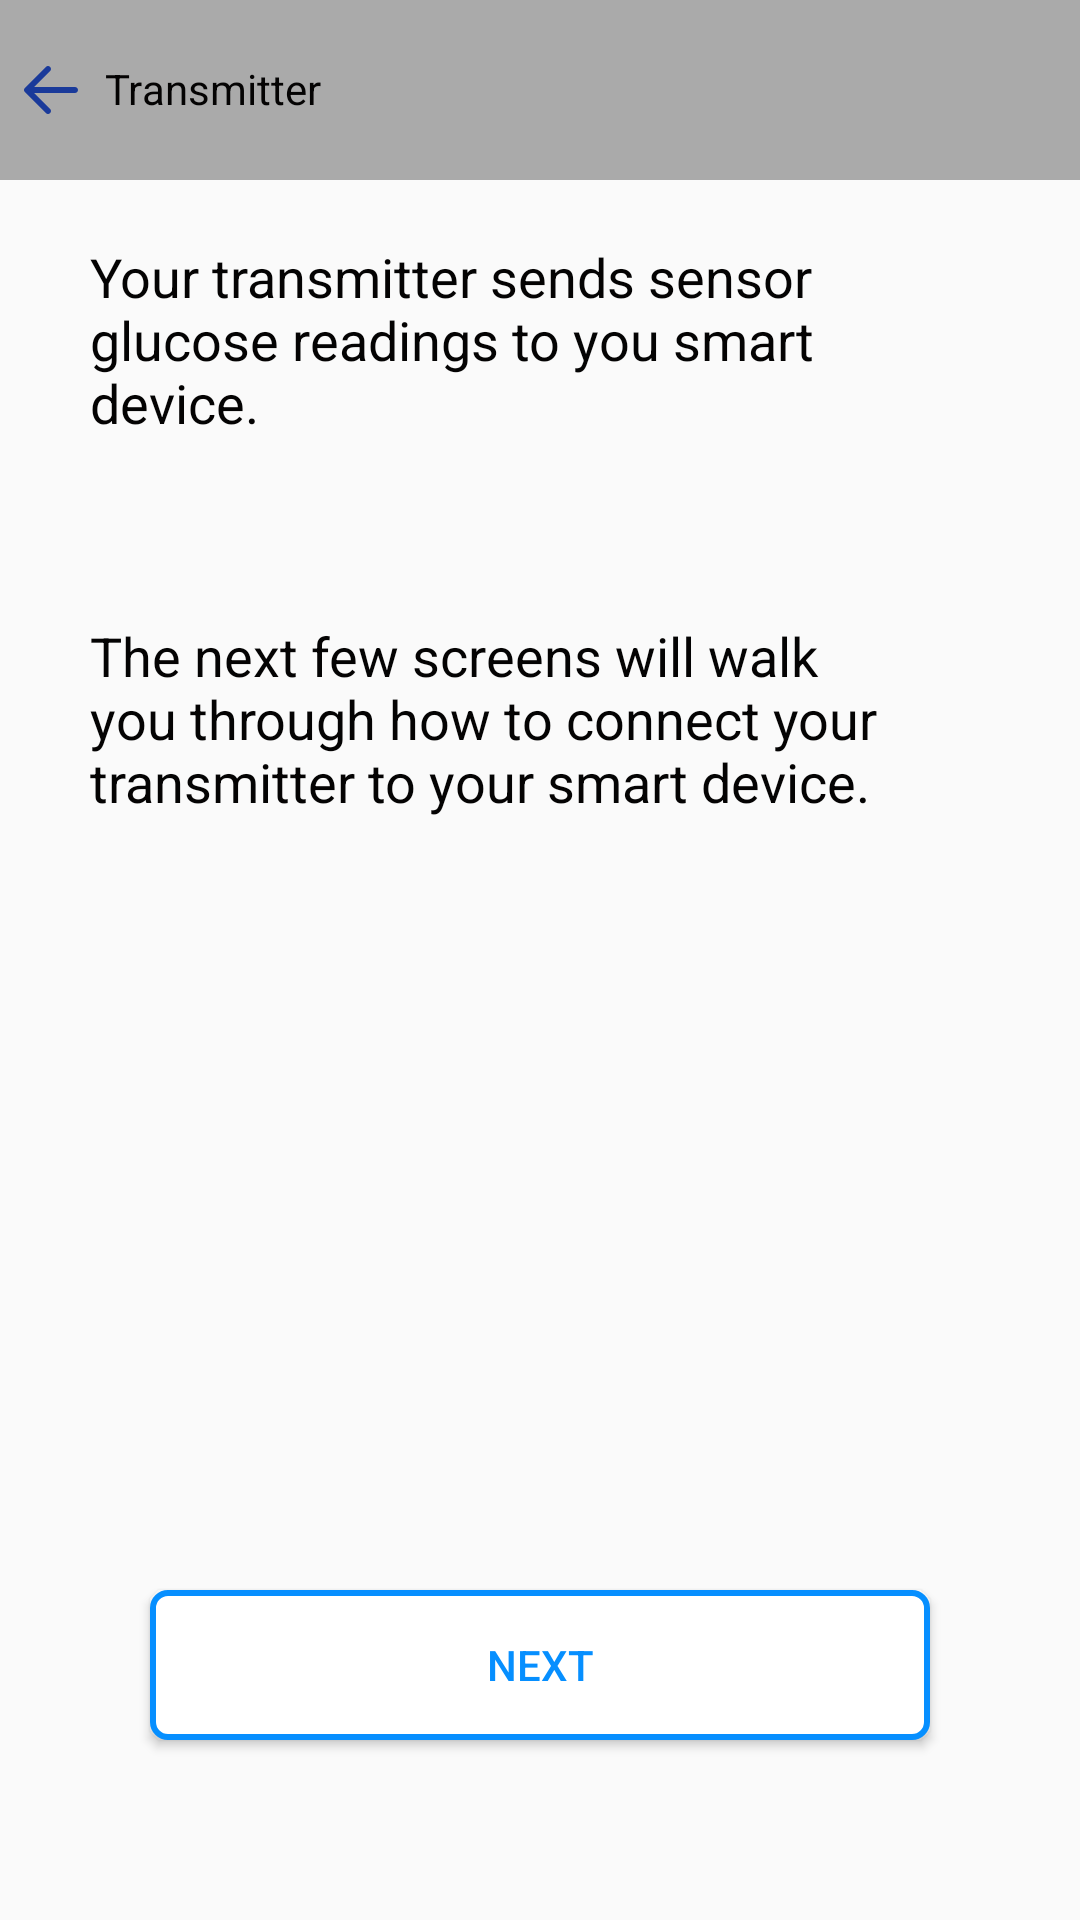

Where icons sit on this 1080 x 1920 app screen, as (x1, y1, x2, y2):
left: (24, 66, 78, 114)
